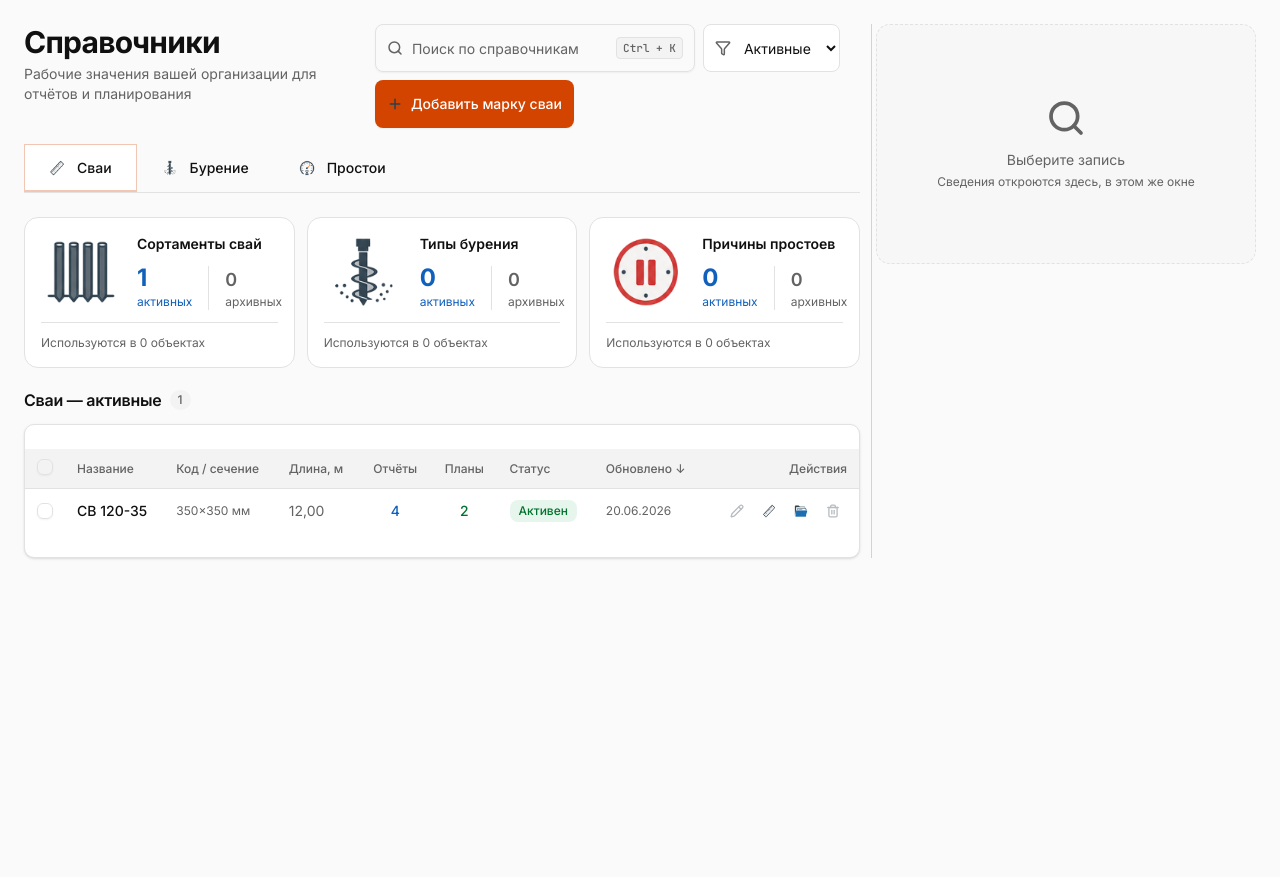
it: AdminDictionaries › opens the selected pile grade in the right inspector
Click the row "СВ 120-35 350×350 мм 12,00 4 2 Активен 20.06.2026": [112, 510] box [25,488,859,533]
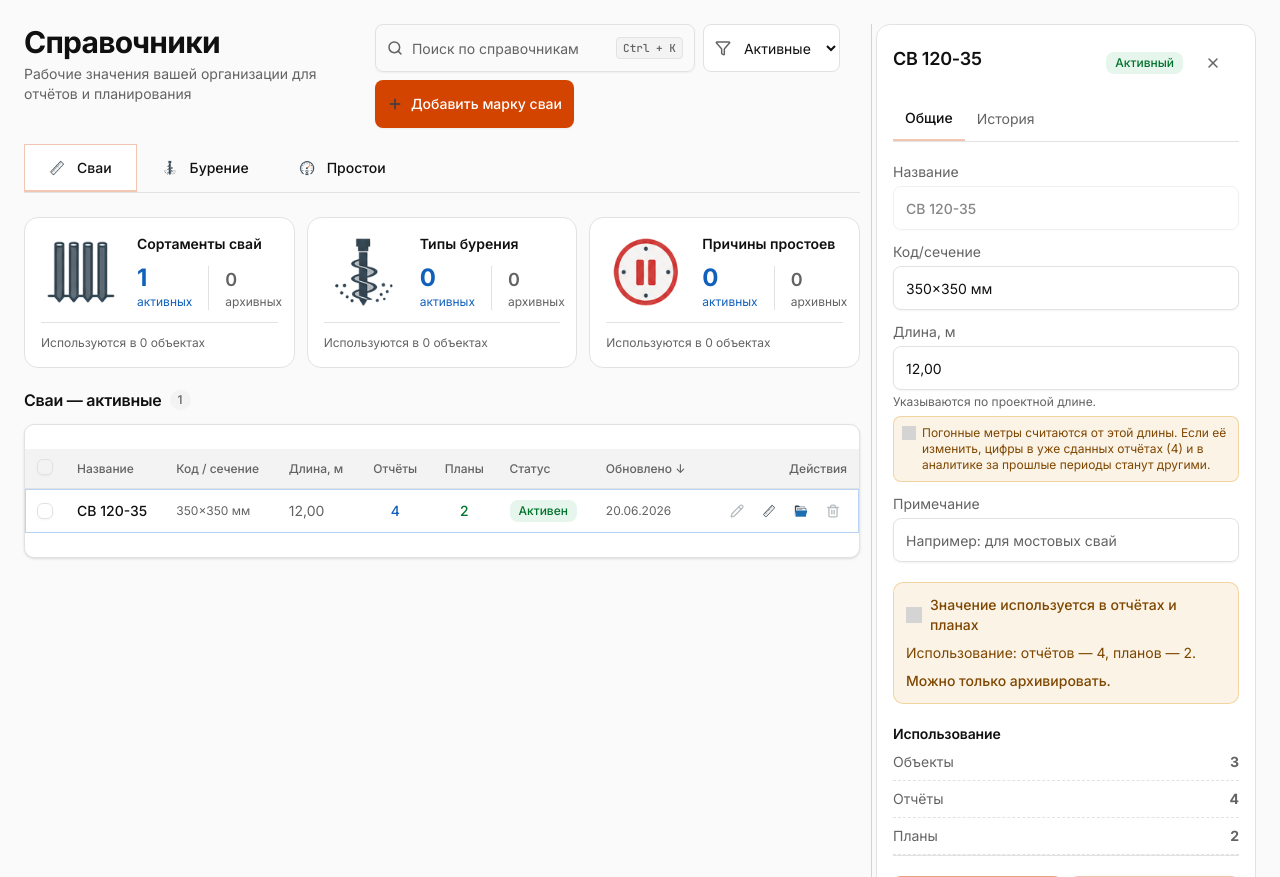
expect the field showing "350×350 мм" is shown: met, box [893,266,1239,310]
expect the field showing "12,00" is shown: met, box [893,346,1239,390]
expect the field showing "СВ 120-35" is disabled: met, box [893,186,1239,230]
